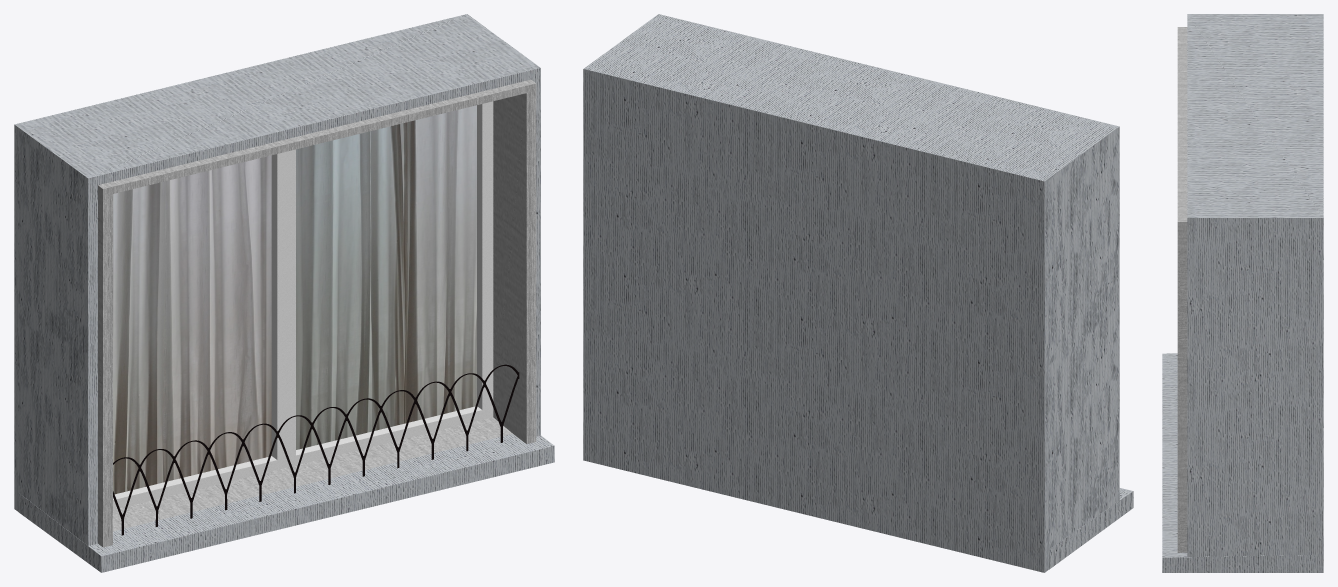
The model's file is Kuechenfenster.glb.
3 renders of one model, left to right at view 1: azimuth 30°, elevation 25°; view 2: azimuth 150°, elevation 25°; view 3: azimuth 270°, elevation 25°, orthographic. The views are drawn at different scales.
Parts seen in each view (by area): view 1: Cube, Plane; view 2: Cube; view 3: Cube.
Part boxes in pixels (x1,y1,x2,y2): Cube: (14,14,554,572); Plane: (113,364,519,535); Cube: (583,14,1133,572); Cube: (1162,14,1323,572).
Bounding box in the file's own units: 3.55 × 2.88 × 1.18.
5 materials, 5 textured.
